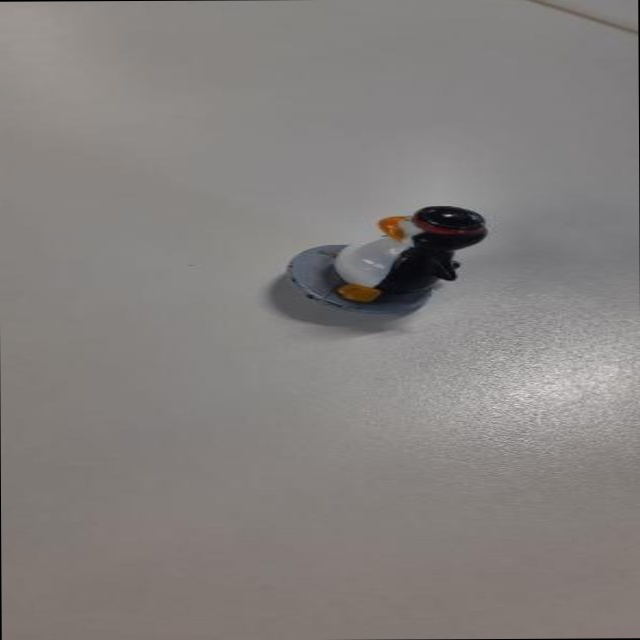Penguin: (262, 206, 497, 322)
